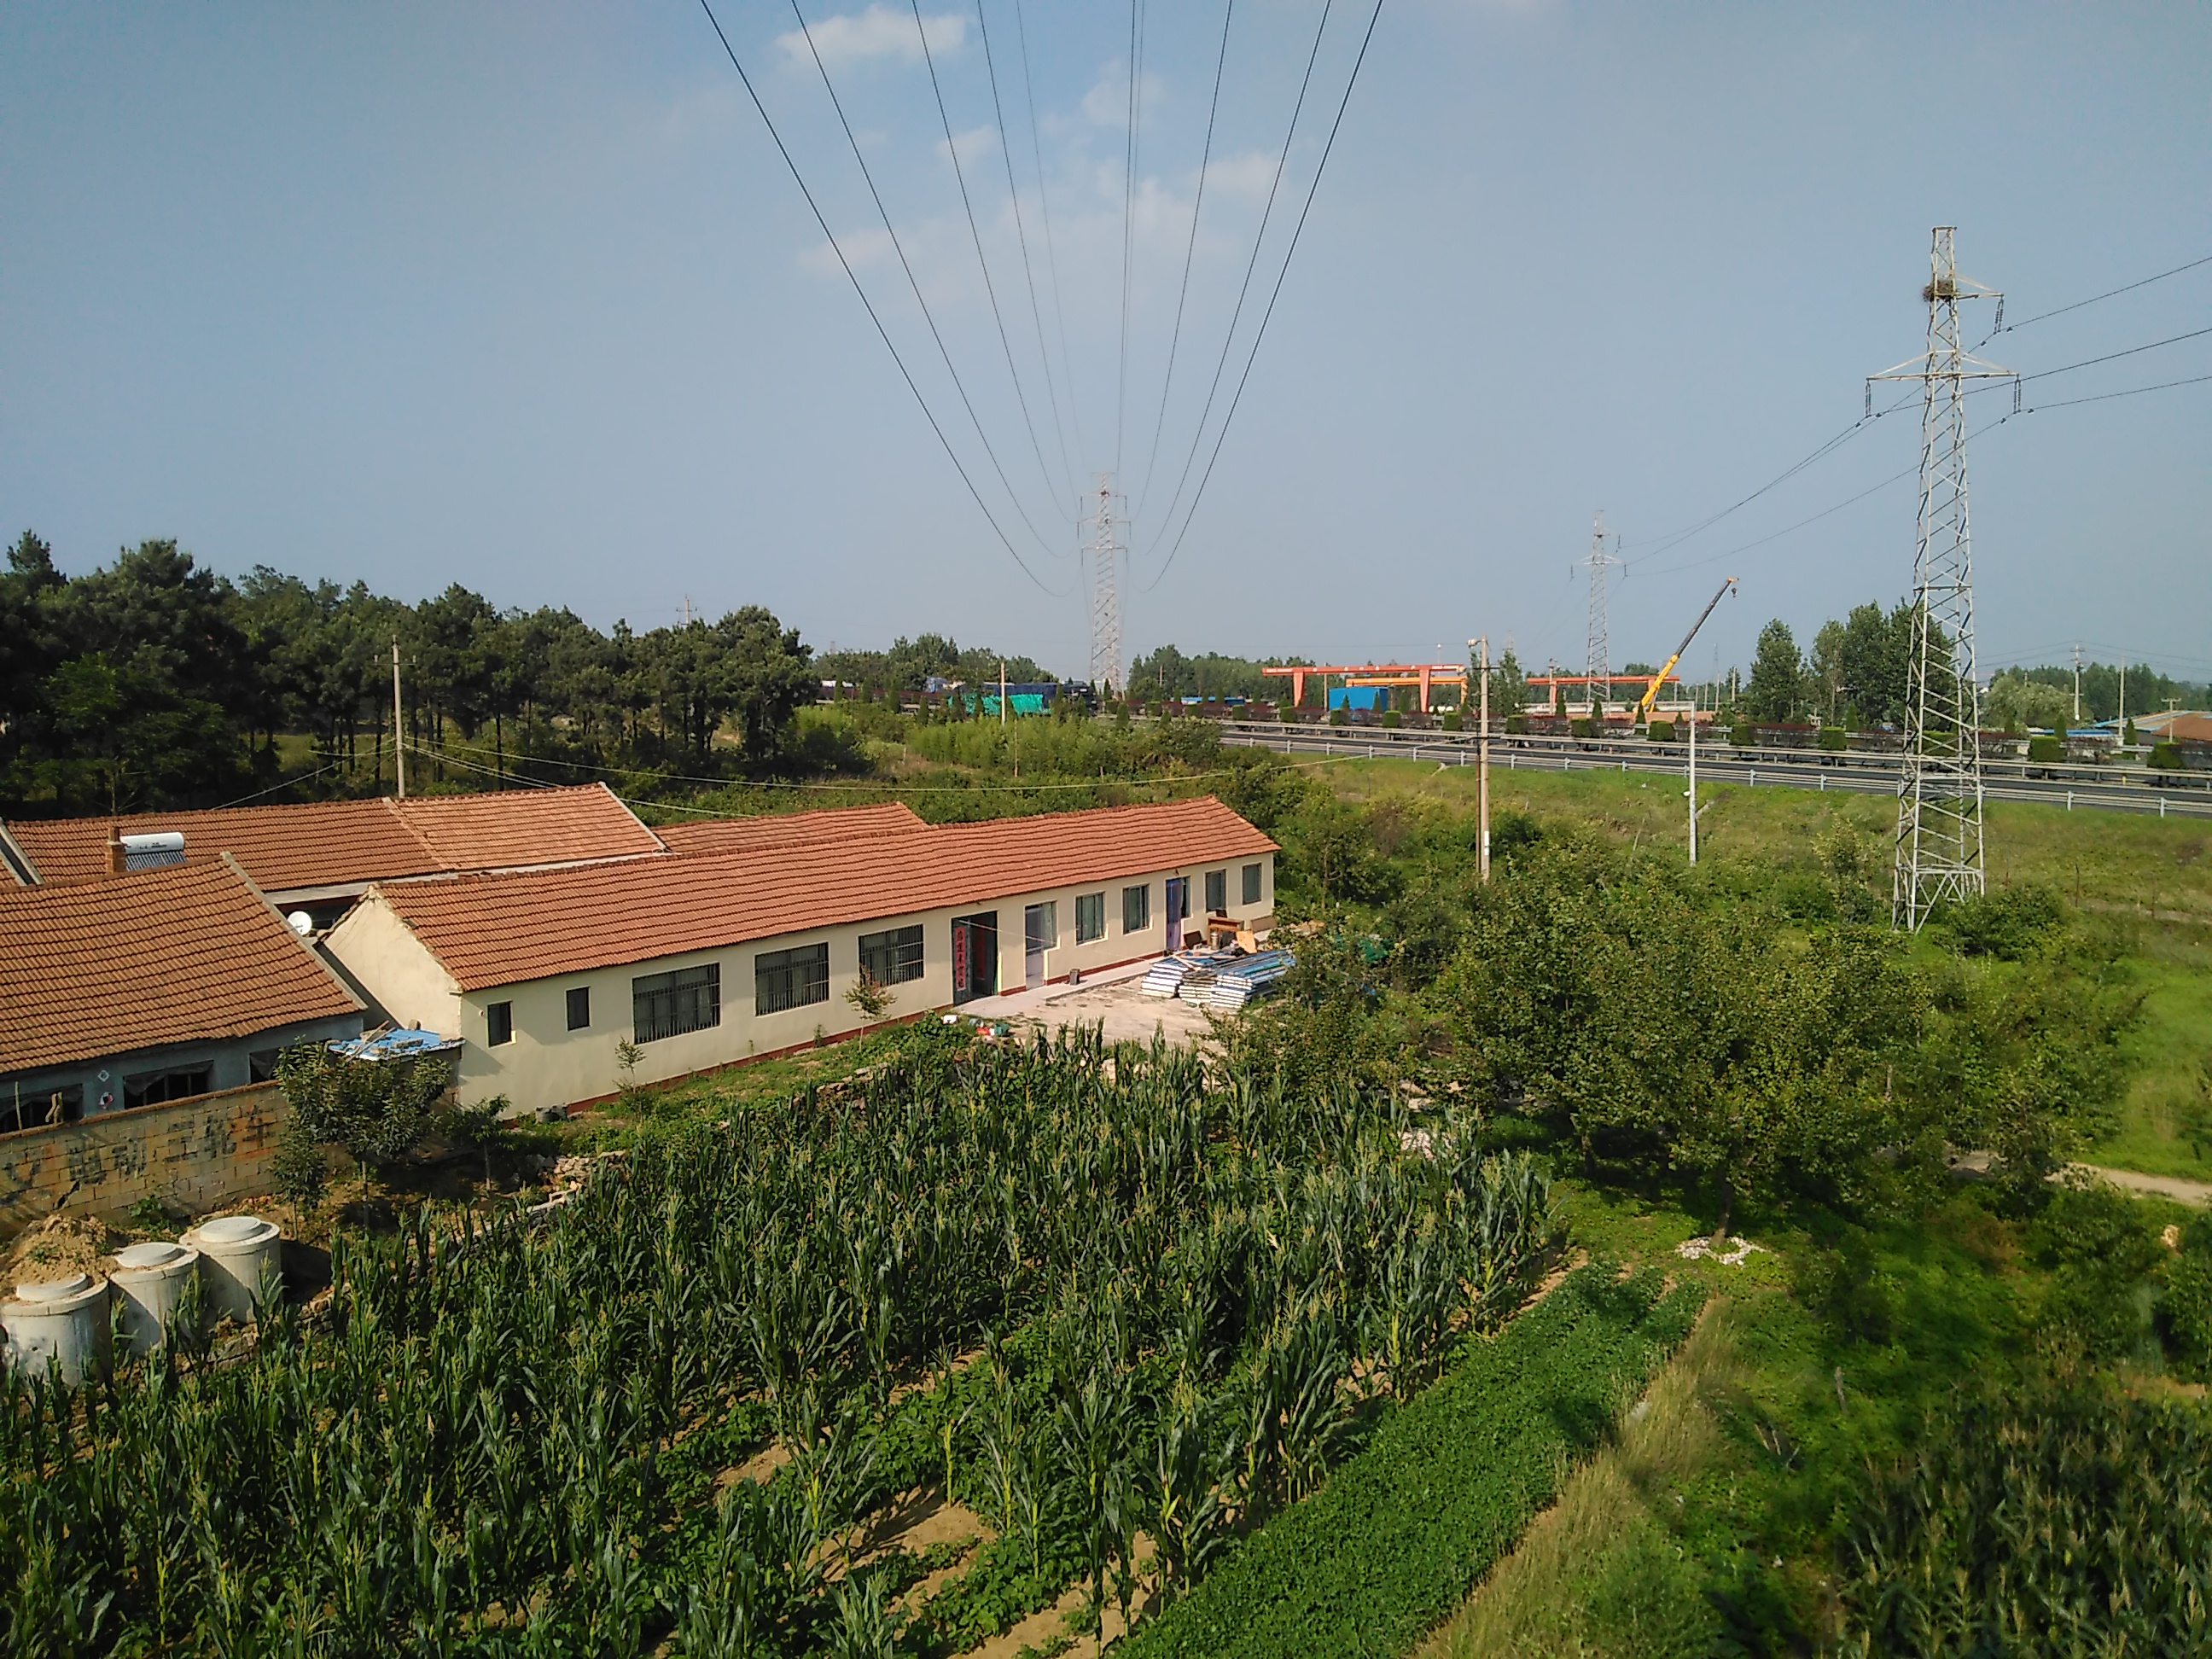DiaoChe: (1630, 568, 1737, 728)
